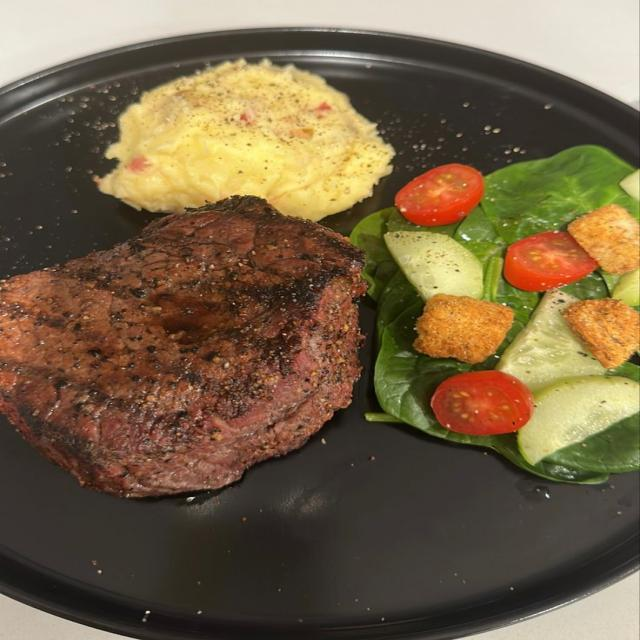beef steak: (0, 196, 366, 497)
cucumber sliced: (496, 290, 607, 393), (517, 376, 639, 464), (383, 231, 483, 301)
mashed potatoes: (97, 59, 394, 221)
sliced tomatoe: (430, 371, 533, 435), (505, 231, 597, 291), (395, 164, 483, 226)
